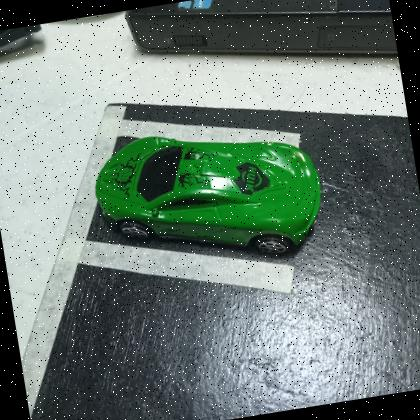Car: (95, 137, 322, 257)
